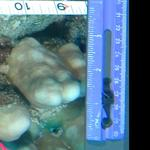alive: (5, 4, 133, 147)
